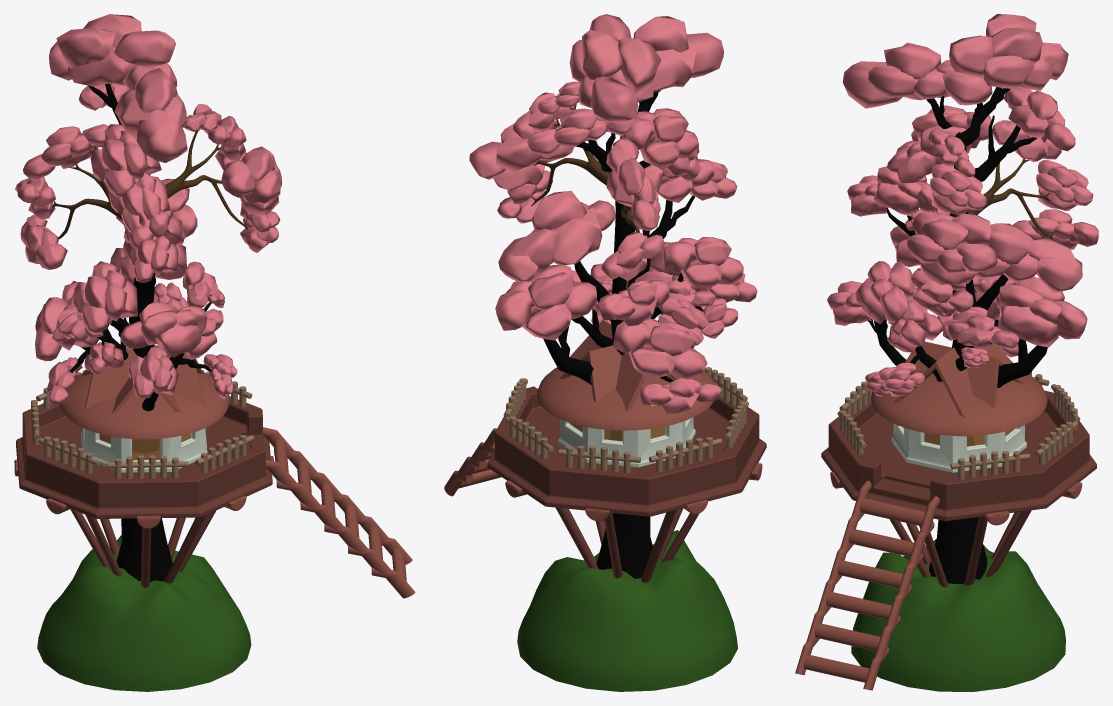
Rendered from tree_house03.fbx.
3 views of the same model, side by side, from view 1: azimuth 30°, elevation 25°; view 2: azimuth 150°, elevation 25°; view 3: azimuth 270°, elevation 25° (orthographic). The views are drawn at different scales.
Parts seen in each view (by area): view 1: Foliages, Grass_mound, platform, tree_roof, root, tree_ladder, tree_fence, tree_Bracket, tree_house_body; view 2: Foliages, Grass_mound, platform, root, tree_roof, tree_fence, tree_Bracket, tree_house_body, tree_ladder; view 3: Foliages, Grass_mound, platform, tree_roof, tree_ladder, root, tree_fence, tree_house_body, tree_Bracket.
Boxes of the visible parts, x1,y1,x2,y2 form: Foliages: (15,14,281,405); Grass_mound: (37,535,251,691); platform: (16,396,272,518); tree_roof: (60,344,228,439); root: (52,83,247,582); tree_ladder: (263,427,415,598); tree_fence: (31,370,254,479); tree_Bracket: (14,456,273,587); tree_house_body: (81,428,207,472); Foliages: (469,14,757,413); Grass_mound: (517,530,737,691); platform: (487,386,766,516); root: (531,90,703,578); tree_roof: (537,320,714,430); tree_fence: (503,367,748,473); tree_Bracket: (491,442,762,582); tree_house_body: (558,417,695,467); tree_ladder: (444,428,501,496); Foliages: (827,14,1098,396); Grass_mound: (851,539,1065,691); platform: (821,390,1096,521); tree_roof: (871,341,1047,436); tree_ladder: (795,480,939,690); root: (868,87,1052,583); tree_fence: (837,371,1080,479); tree_house_body: (891,423,1026,472); tree_Bracket: (830,471,1082,587).
Bounding box in the file's own units: 55.83 × 95.57 × 42.65.
